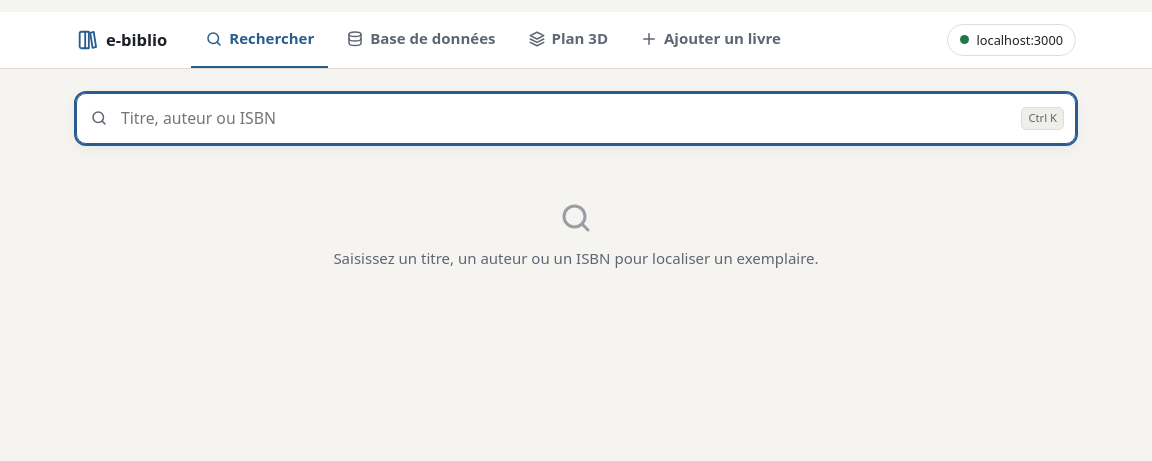
it: App › depuis une carte, ouvre l’ajout avec le livre présélectionné
Type "1984" into the search field at (576, 118), box [76, 93, 1076, 144]
Then press Enter
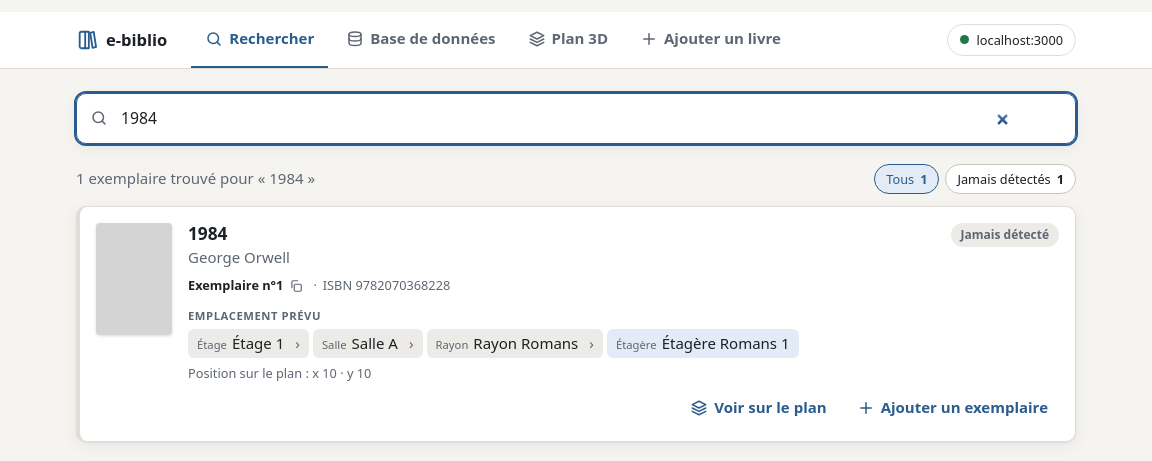
Click the button "Ajouter un exemplaire" at (952, 408), box [846, 391, 1059, 425]
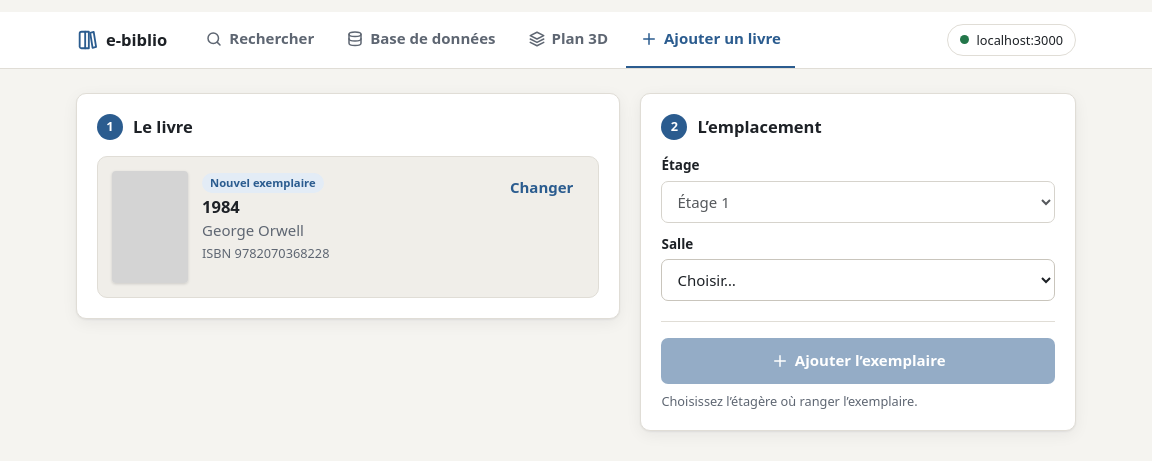
Expected: the element named "Livre choisi : 1984" shows "Nouvel exemplaire", [210, 175, 316, 190]
